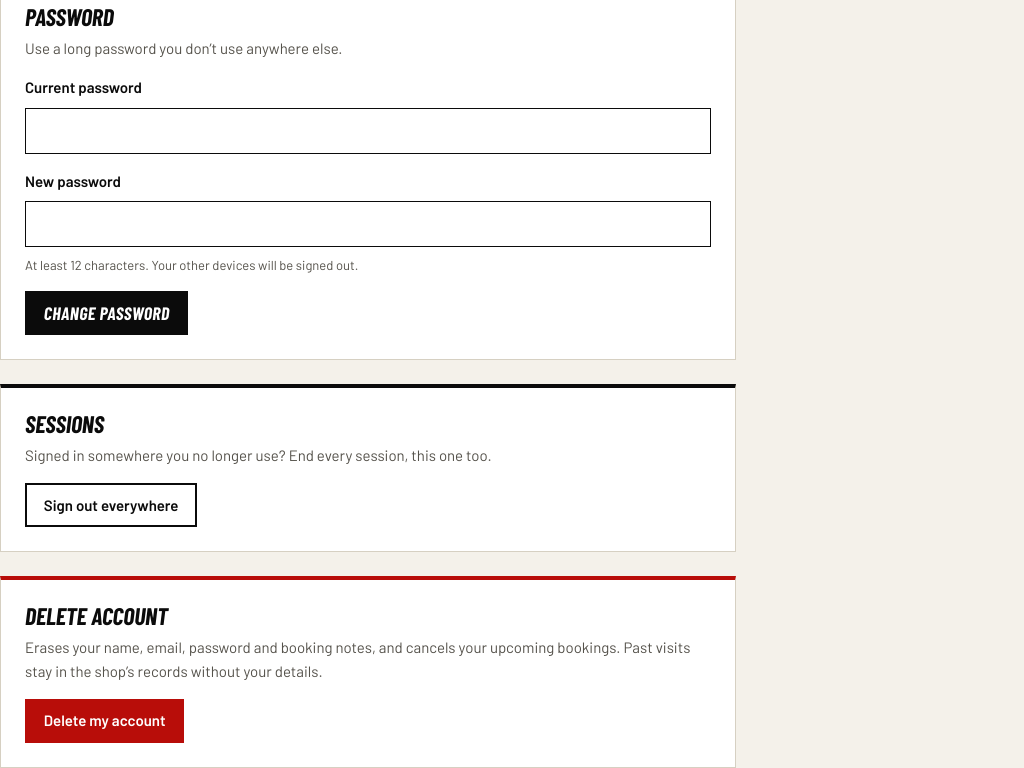
AccountPage › can back out of deleting
(page scrolled)
Click the button "Delete my account" at {"x": 105, "y": 721}, box 25,699 -> 184,743
(page scrolled)
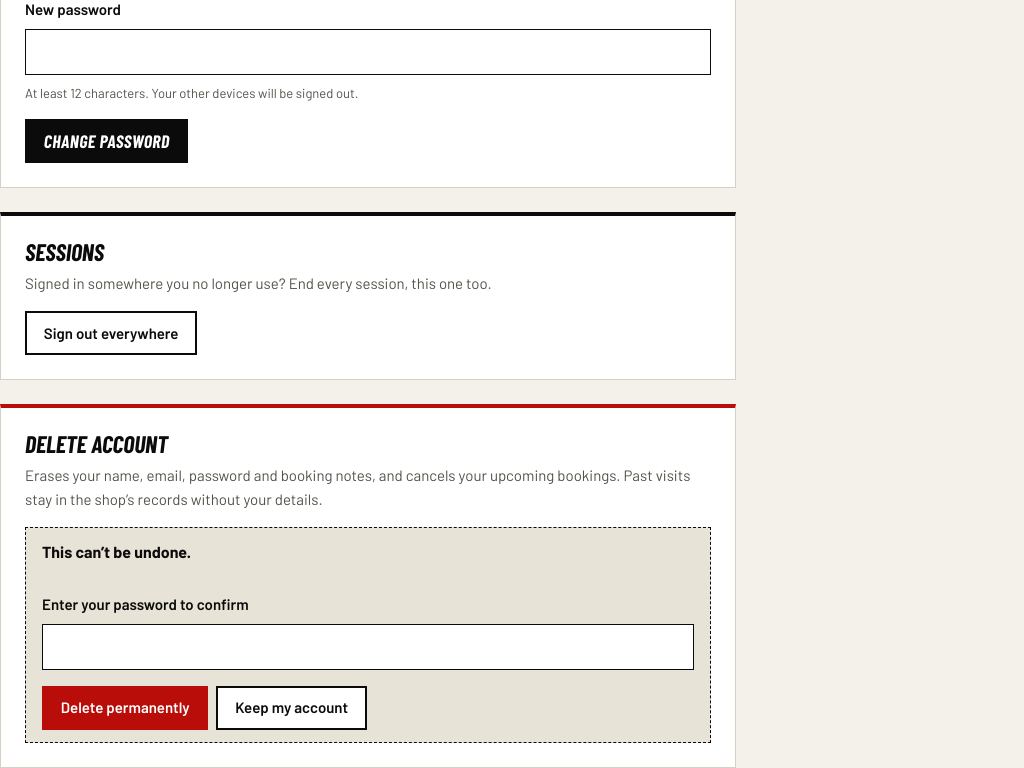
Click the button "Keep my account" at {"x": 292, "y": 708}, box 216,686 -> 367,730
(page scrolled)
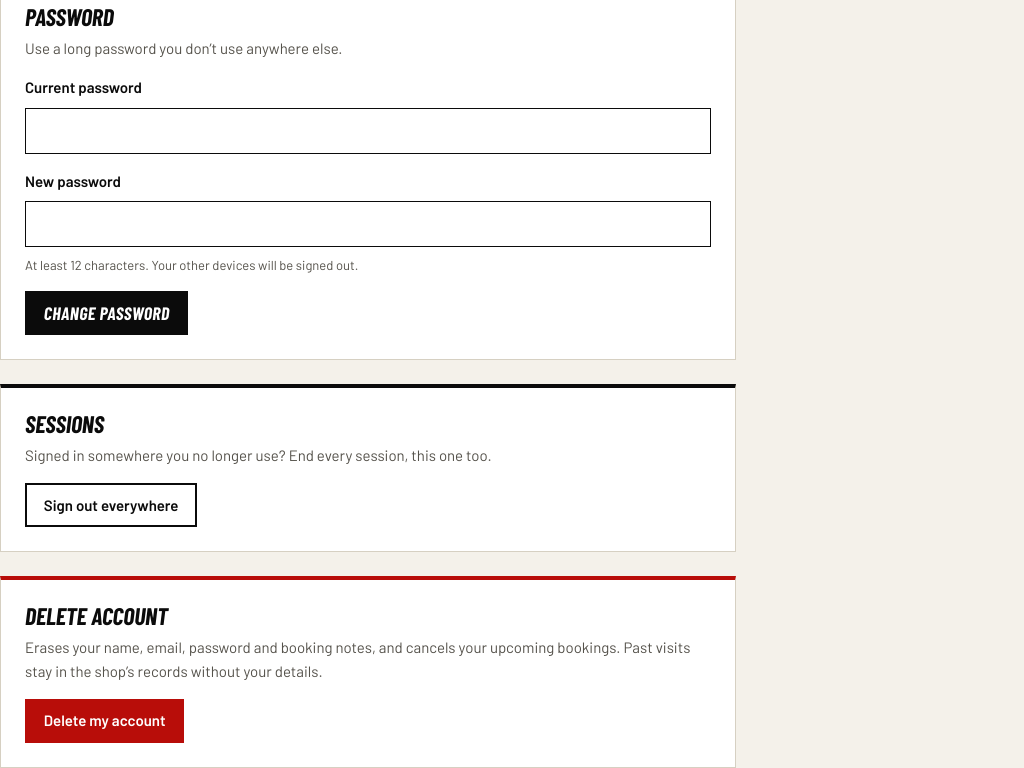
Expected: the button "Delete my account" is shown, 25,699 -> 184,743
